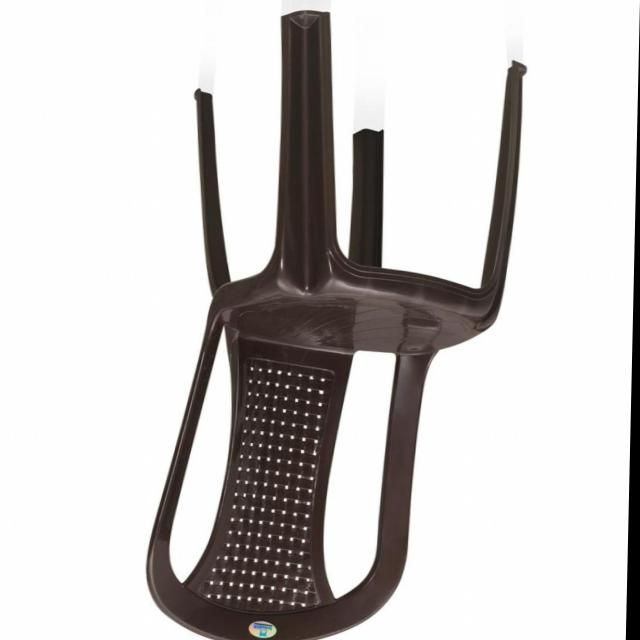Chair: (145, 6, 528, 640)
